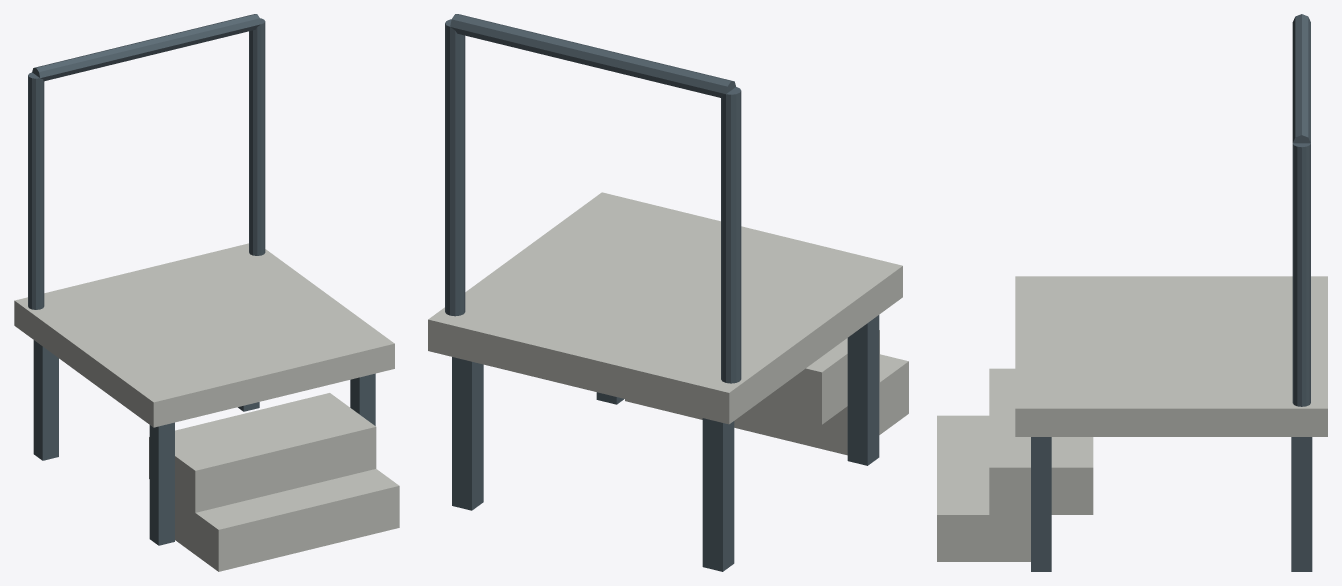
File: american-football-stadium-kit-officials-platform-8f9ff071__22344.glb
3 views of the same model, side by side, from view 1: azimuth 30°, elevation 25°; view 2: azimuth 150°, elevation 25°; view 3: azimuth 270°, elevation 25° (orthographic). The views are drawn at different scales.
Parts seen in each view (by area): view 1: officials-platform; view 2: officials-platform; view 3: officials-platform.
Part boxes in pixels (<box>): officials-platform: <box>14,14,399,571</box>; officials-platform: <box>428,14,908,571</box>; officials-platform: <box>937,14,1327,571</box>.
Bounding box in the file's own units: 1.2 × 1.86 × 1.5.
